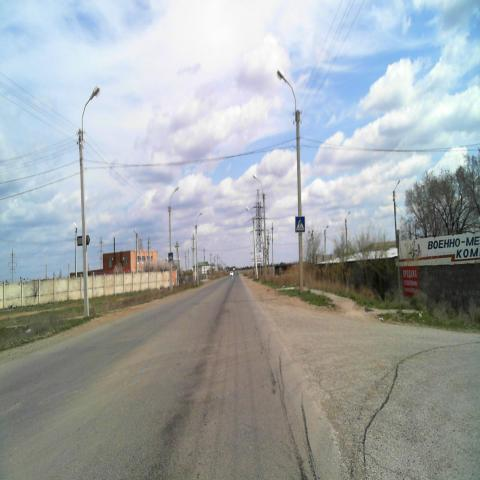3_12: (263, 247, 268, 256)
5_19_1: (295, 216, 305, 232), (168, 251, 173, 261)
